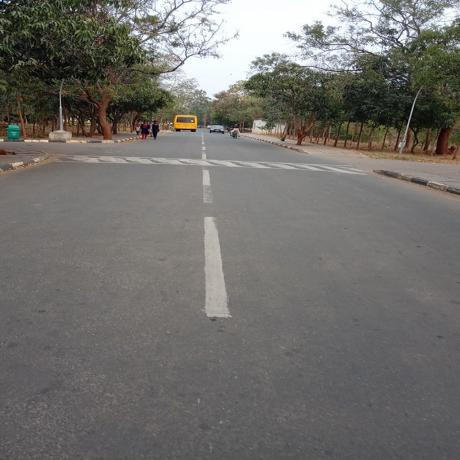Speed Bump: (43, 154, 365, 175)
